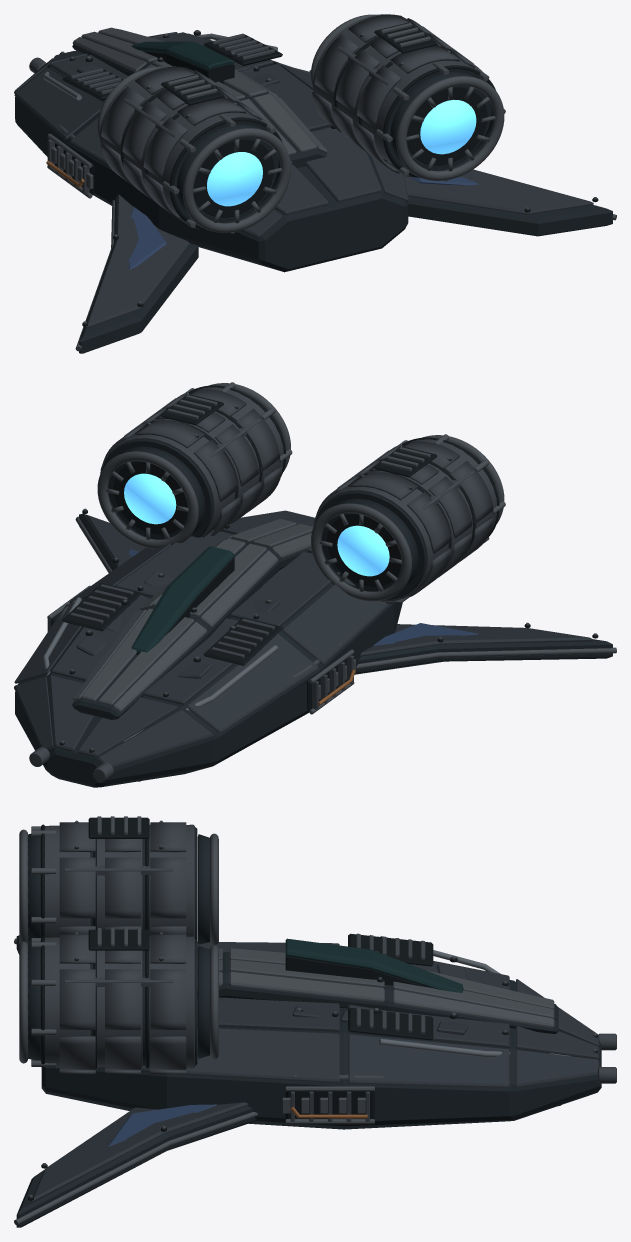
Rendered from nostromo.glb.
The picture shows the model from 3 angles, top to bottom: view 1: azimuth 30°, elevation 25°; view 2: azimuth 150°, elevation 25°; view 3: azimuth 270°, elevation 25°; orthographic projection. The views are drawn at different scales.
Visible parts, largest first — view 1: nostromo; view 2: nostromo; view 3: nostromo.
Part boxes in pixels (bbox=[...]): nostromo: bbox=[14, 14, 616, 353]; nostromo: bbox=[14, 382, 616, 787]; nostromo: bbox=[14, 816, 616, 1227].
Bounding box in the file's own units: 5.04 × 1.75 × 4.53.
